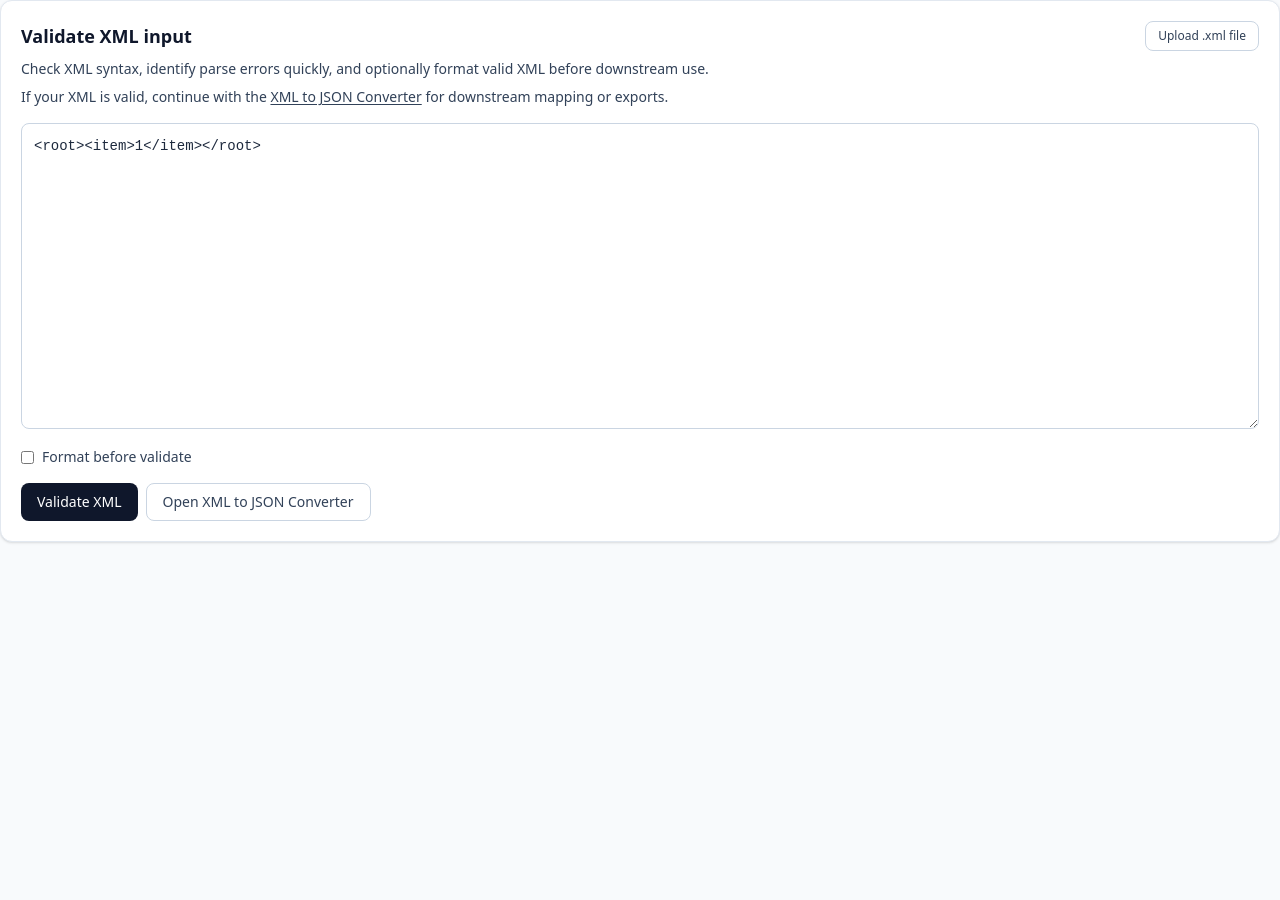
Test: XmlValidatorTool › shows highlighted error state for invalid xml
This screenshot has width=1280, height=900.
Replace the text in the text box with placeholder "Paste XML..." with "<root><item></root>" at (640, 276), box [21,123,1259,429]
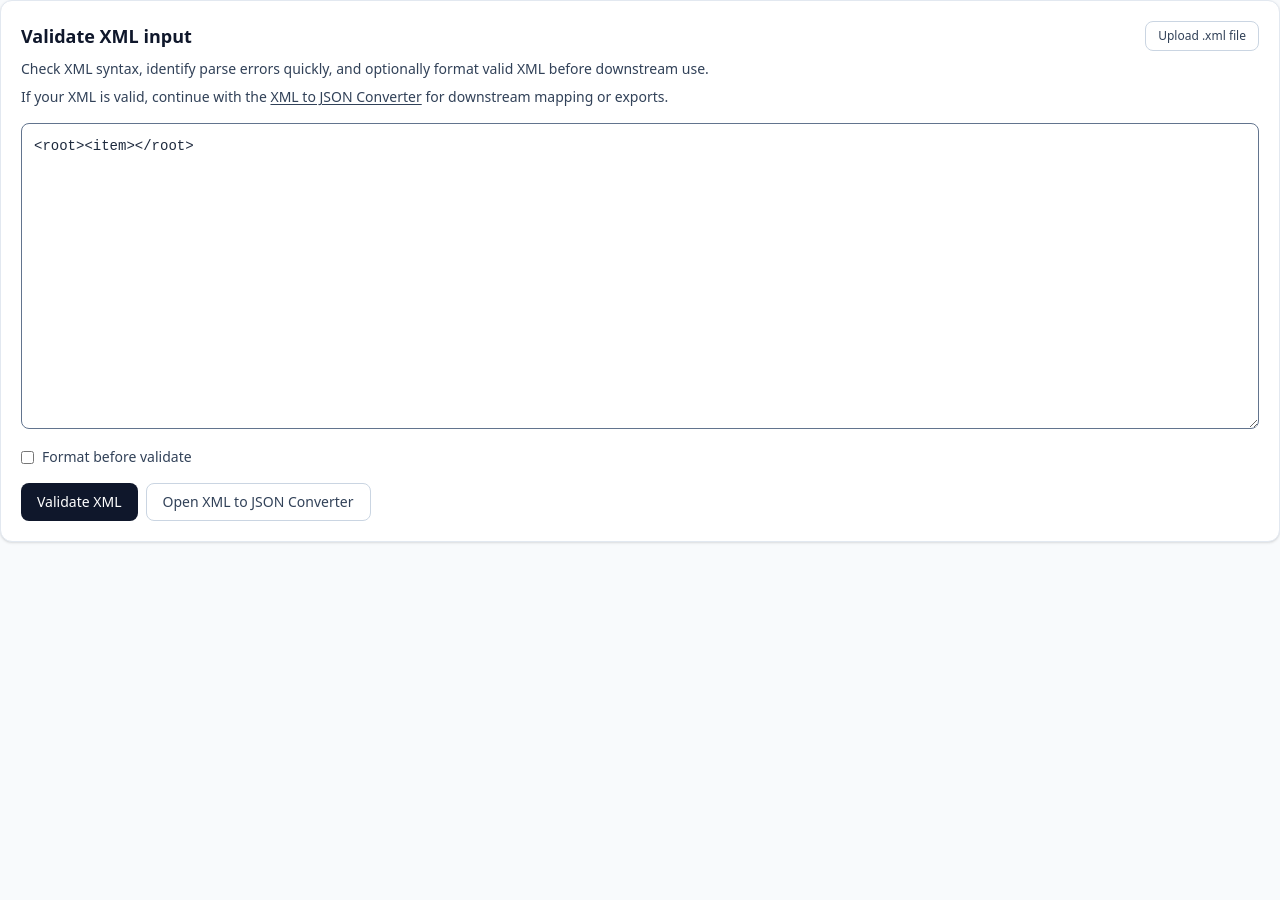
Click the button "Validate XML" at (79, 502), box [21,483,138,521]
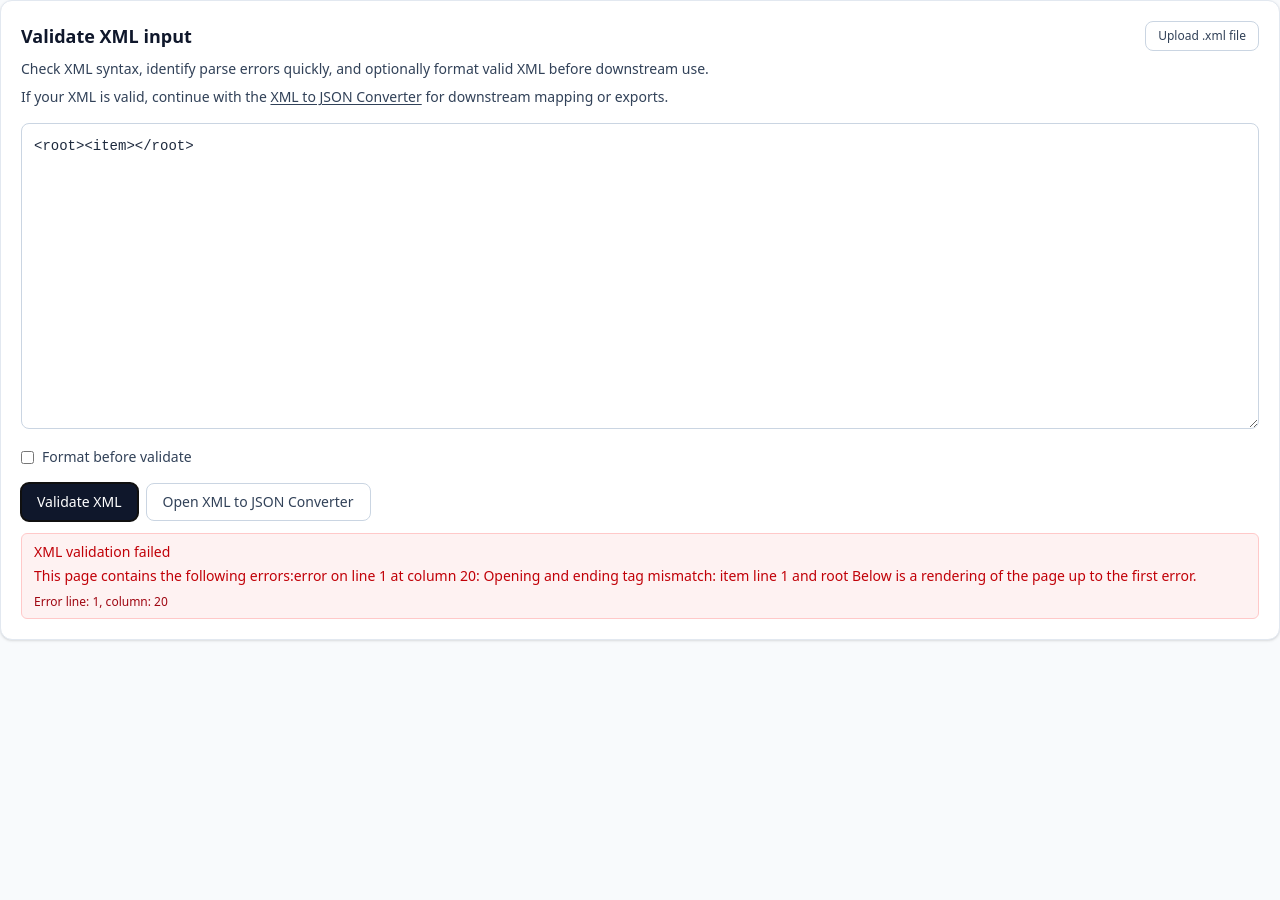
expect the text "XML validation failed" is shown: met, box [34,542,170,561]
